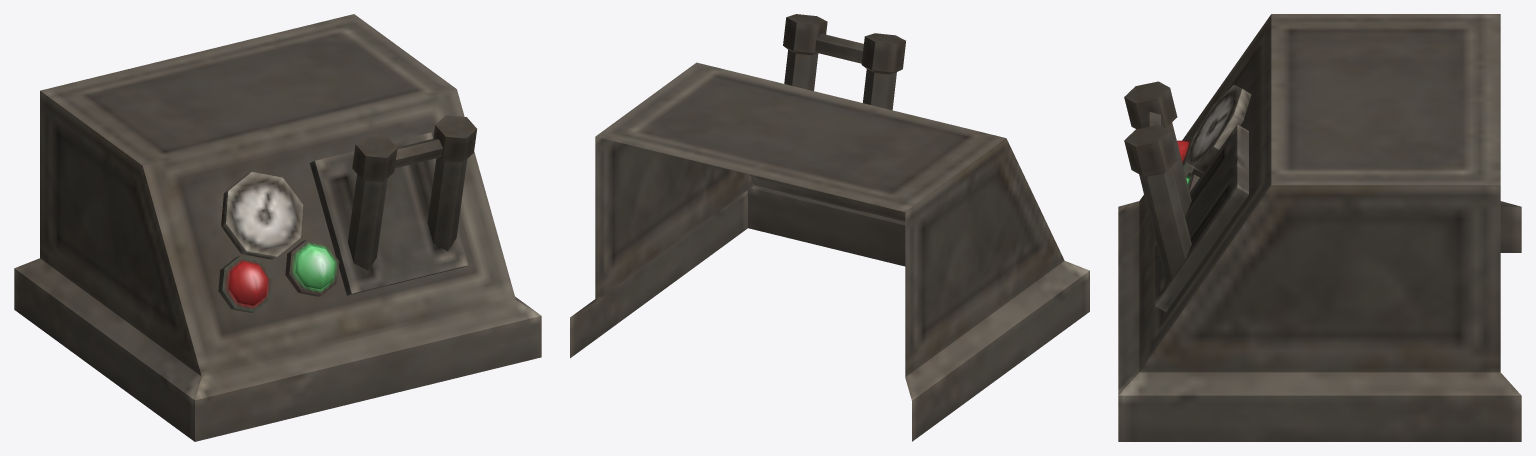
Rendered from machine_2.FBX.
The picture shows the model from 3 angles, left to right: view 1: azimuth 30°, elevation 25°; view 2: azimuth 150°, elevation 25°; view 3: azimuth 270°, elevation 25°; orthographic projection. The views are drawn at different scales.
Parts seen in each view (by area): view 1: machine_2; view 2: machine_2; view 3: machine_2.
Boxes of the visible parts, x1=… form: machine_2: x1=14, y1=14, x2=541, y2=441; machine_2: x1=570, y1=14, x2=1089, y2=441; machine_2: x1=1118, y1=14, x2=1521, y2=441.
Size of the model in its own units: 27.05 by 18.12 by 24.4.
